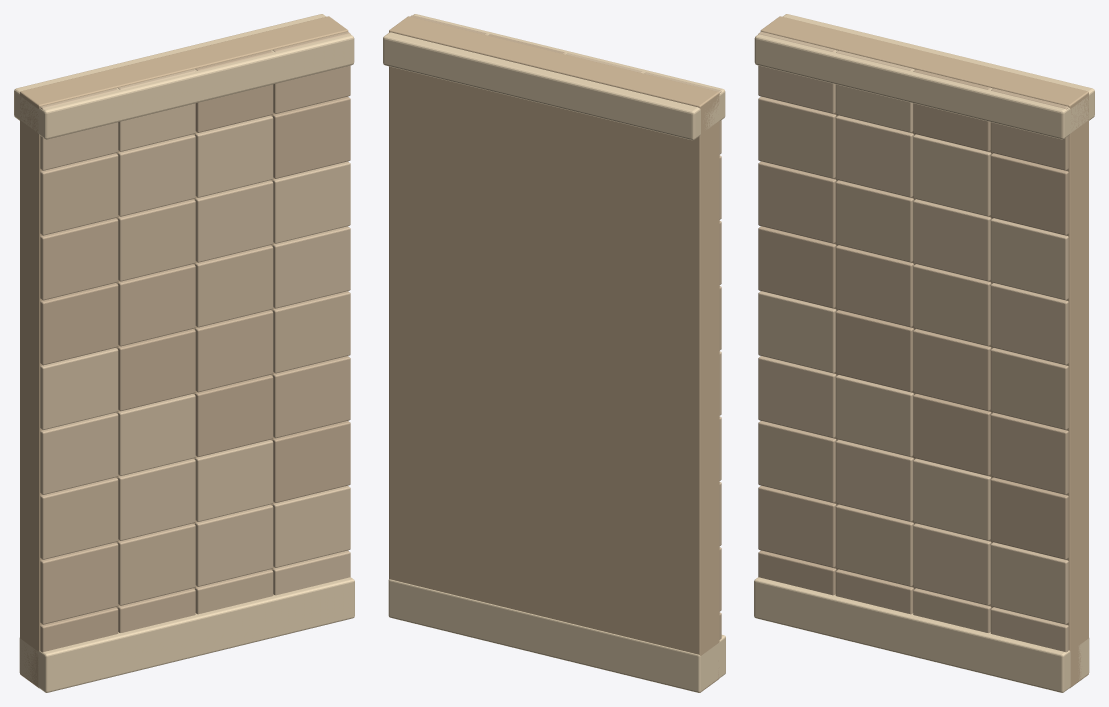
The model's file is StoneWall_2m.fbx.
3 renders of one model, left to right at view 1: azimuth 30°, elevation 25°; view 2: azimuth 150°, elevation 25°; view 3: azimuth 330°, elevation 25°, orthographic.
Parts seen in each view (by area): view 1: Wall core, Skirting, Cornice, Limestone block.024, Limestone block.020, Limestone block.028, Limestone block.004, Limestone block.018, Limestone block.026, Limestone block.010, Limestone block.022, Limestone block.030 (+27 smaller); view 2: Wall core, Skirting, Cornice; view 3: Wall core, Skirting, Cornice, Limestone block.027, Limestone block.023, Limestone block.031, Limestone block.007, Limestone block.017, Limestone block.025, Limestone block.009, Limestone block.021, Limestone block.029 (+27 smaller).
Boxes of the visible parts, <box> form: Wall core: <box>20,16,348,687</box>; Skirting: <box>19,577,354,692</box>; Cornice: <box>14,14,354,139</box>; Limestone block.024: <box>40,218,118,300</box>; Limestone block.020: <box>40,283,118,365</box>; Limestone block.028: <box>40,153,118,235</box>; Limestone block.004: <box>40,542,118,624</box>; Limestone block.018: <box>195,310,273,392</box>; Limestone block.026: <box>195,180,273,262</box>; Limestone block.010: <box>195,439,273,521</box>; Limestone block.022: <box>195,245,273,327</box>; Limestone block.030: <box>195,115,273,197</box>; Wall core: <box>389,16,719,692</box>; Skirting: <box>388,579,725,692</box>; Cornice: <box>383,14,725,140</box>; Wall core: <box>760,16,1088,687</box>; Skirting: <box>754,577,1089,692</box>; Cornice: <box>754,14,1094,139</box>; Limestone block.027: <box>990,218,1068,300</box>; Limestone block.023: <box>990,283,1068,365</box>; Limestone block.031: <box>990,153,1068,235</box>; Limestone block.007: <box>990,542,1068,624</box>; Limestone block.017: <box>835,310,913,392</box>; Limestone block.025: <box>835,180,913,262</box>; Limestone block.009: <box>835,439,913,521</box>; Limestone block.021: <box>835,245,913,327</box>; Limestone block.029: <box>835,115,913,197</box>.
Size of the model in its own units: 2 by 3.6 by 0.365.
